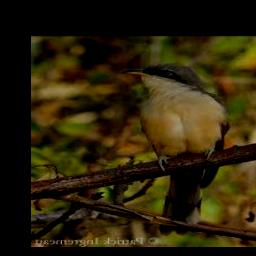Cuckoo: (121, 64, 232, 235)
